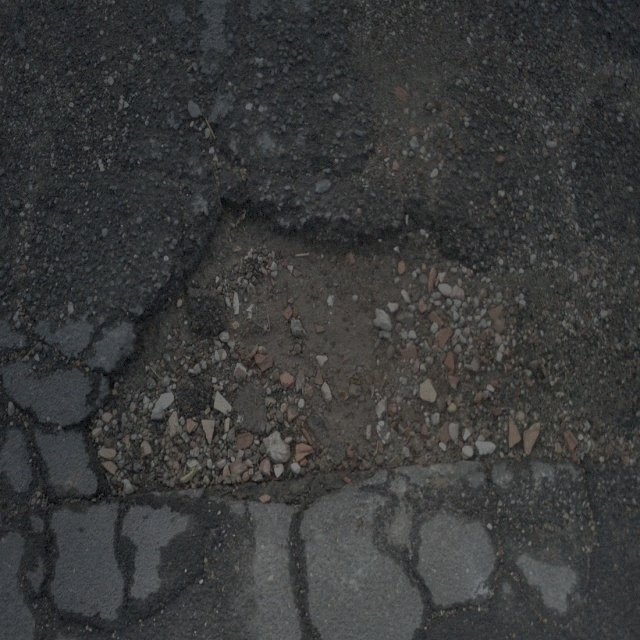pothole: (92, 160, 556, 523)
